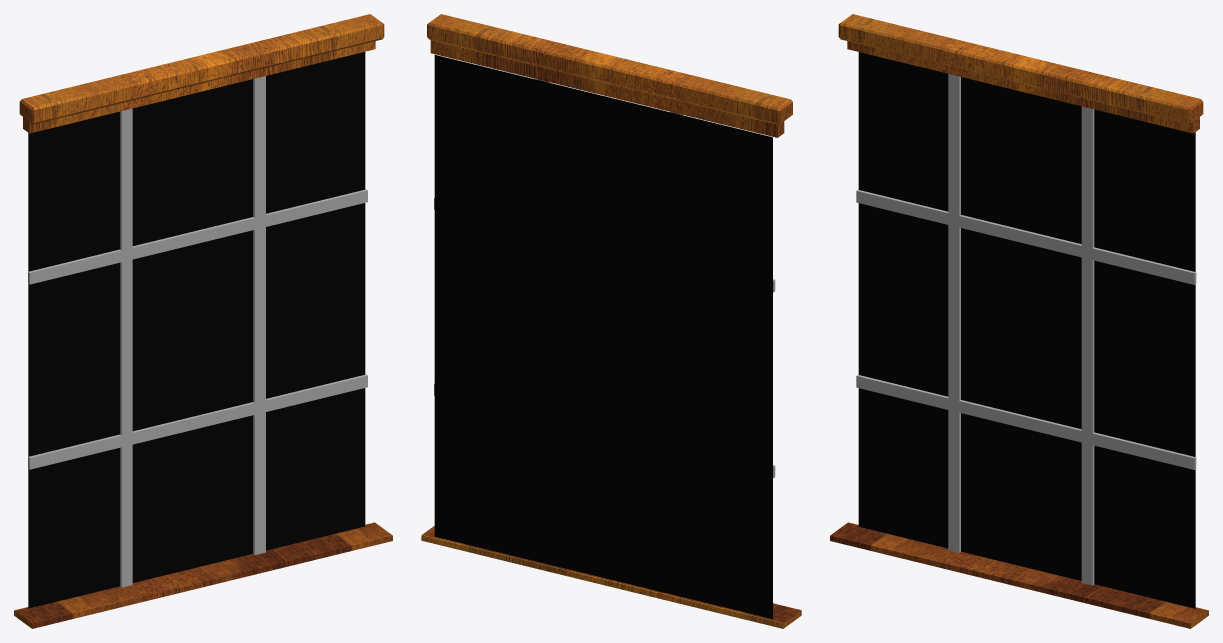
File: window.fbx
3 renders of one model, left to right at view 1: azimuth 30°, elevation 25°; view 2: azimuth 150°, elevation 25°; view 3: azimuth 330°, elevation 25°, orthographic.
Visible parts, largest first — view 1: pPlane1, window_frame:polySurface1, pCube1, pCube2, pCube3, pCube4; view 2: pPlane1, window_frame:polySurface1; view 3: pPlane1, window_frame:polySurface1, pCube2, pCube1, pCube3, pCube4.
Part boxes in pixels (box(x1,y1,x2,y2)): pPlane1: box(28, 52, 365, 608); window_frame:polySurface1: box(14, 14, 392, 628); pCube1: box(120, 108, 132, 587); pCube2: box(253, 76, 265, 554); pCube3: box(28, 189, 367, 284); pCube4: box(28, 374, 367, 469); pPlane1: box(434, 55, 772, 618); window_frame:polySurface1: box(421, 14, 801, 628); pPlane1: box(858, 52, 1195, 608); window_frame:polySurface1: box(830, 14, 1208, 628); pCube2: box(1081, 106, 1094, 585); pCube1: box(948, 74, 960, 552); pCube3: box(856, 189, 1196, 284); pCube4: box(856, 375, 1196, 469).
Bounding box in the file's own units: 25.47 × 34.84 × 2.23.
3 materials, 1 textured.
